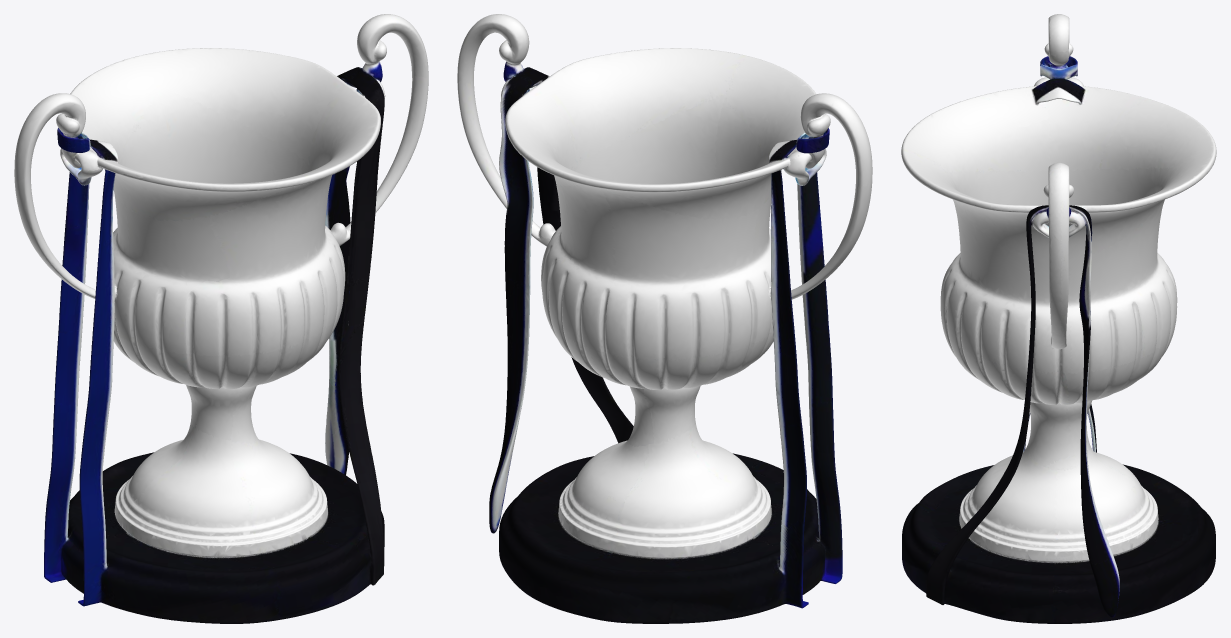
Rendered from finlande.glb.
3 views of the same model, side by side, from view 1: azimuth 30°, elevation 25°; view 2: azimuth 150°, elevation 25°; view 3: azimuth 270°, elevation 25° (orthographic). The views are drawn at different scales.
Visible parts, largest first — view 1: mesh_node; view 2: mesh_node; view 3: mesh_node.
Boxes of the visible parts, x1,y1,x2,y2 form: mesh_node: (14,14,428,623); mesh_node: (457,14,872,623); mesh_node: (901,14,1216,623).
Size of the model in its own units: 1.63 by 1.9 by 1.16.
Materials: 1 (1 with a texture image).
